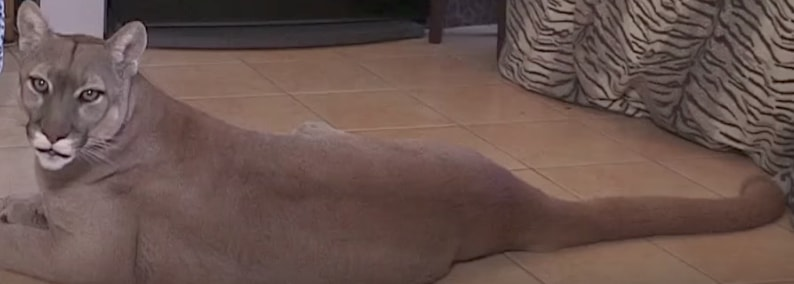Mountain Lion: (6, 6, 504, 284)
